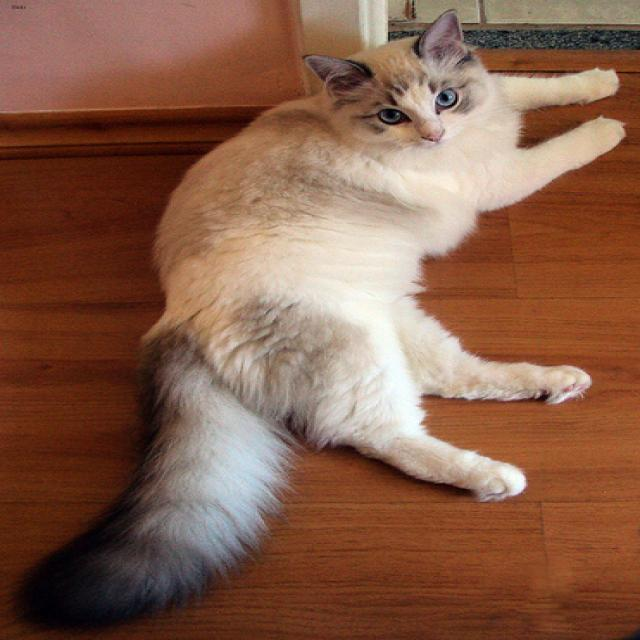Ragdoll: (298, 8, 490, 152)
